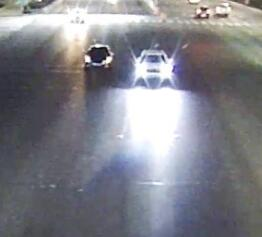car: (131, 46, 176, 84), (81, 43, 115, 72), (65, 4, 86, 25), (193, 0, 213, 21), (211, 1, 234, 18)
